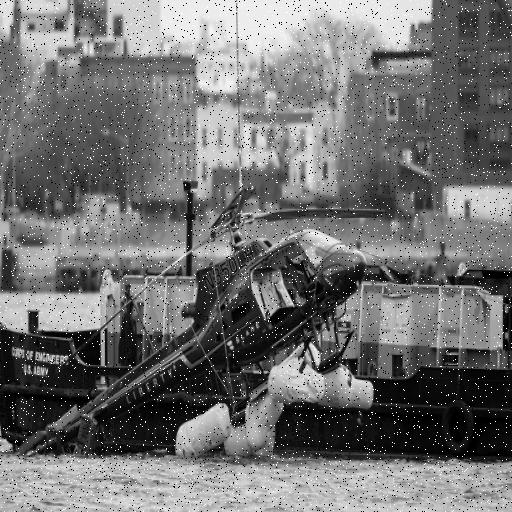helicopter: (14, 136, 382, 483)
